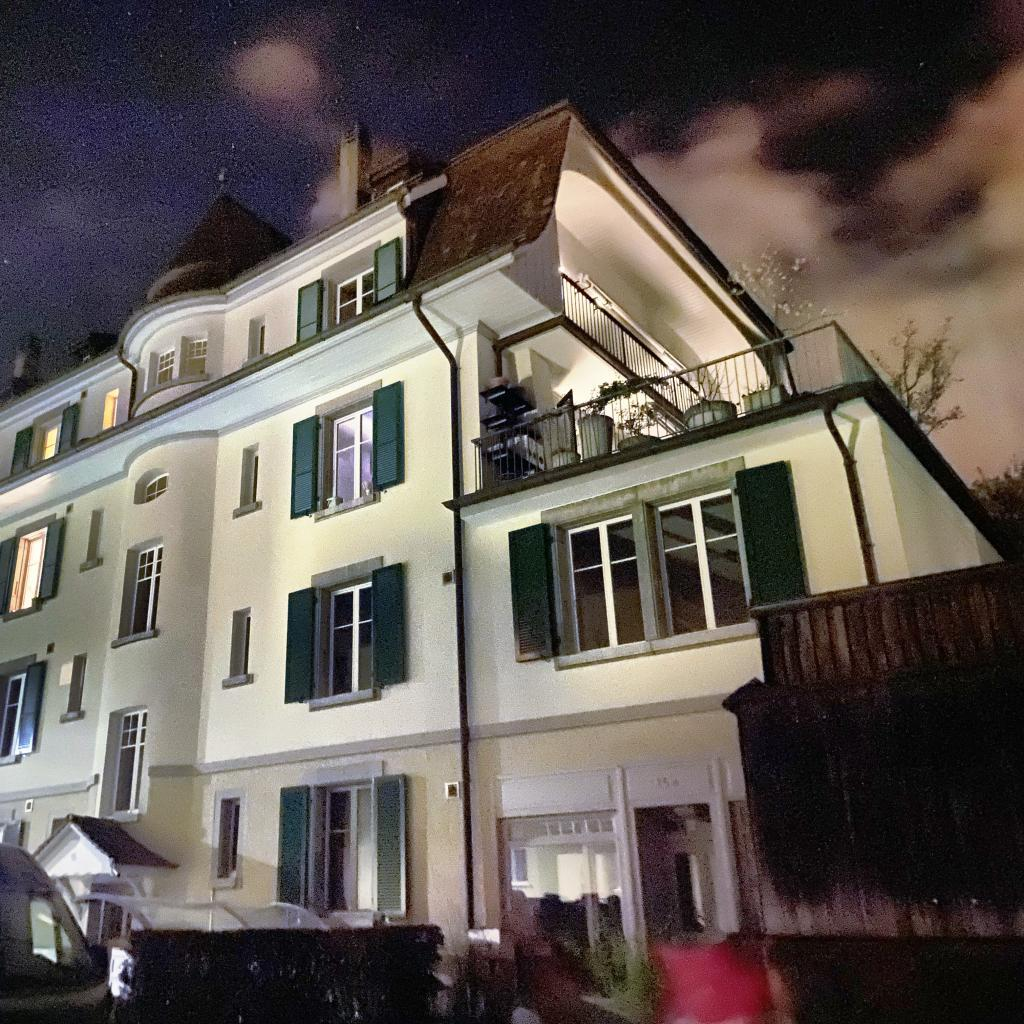balcony-fence: (441, 319, 908, 514), (559, 270, 711, 416)
facade: (0, 97, 1024, 1024)
non-building-infrastructure: (720, 559, 1024, 1024), (71, 892, 396, 944)
vegetation: (114, 891, 664, 1024), (727, 239, 840, 395), (869, 315, 966, 437), (969, 460, 1024, 556), (587, 371, 673, 415), (616, 402, 659, 436)
window: (566, 486, 750, 652), (502, 812, 627, 993), (322, 784, 373, 911), (328, 580, 373, 696), (331, 404, 374, 507), (112, 709, 148, 812), (129, 543, 163, 635), (336, 267, 376, 327), (0, 673, 26, 758), (19, 534, 47, 611), (186, 338, 207, 376), (229, 801, 239, 876), (42, 424, 61, 461), (156, 349, 175, 385), (145, 474, 166, 502), (243, 613, 251, 674), (251, 452, 258, 503), (111, 396, 118, 427), (260, 325, 265, 356)
